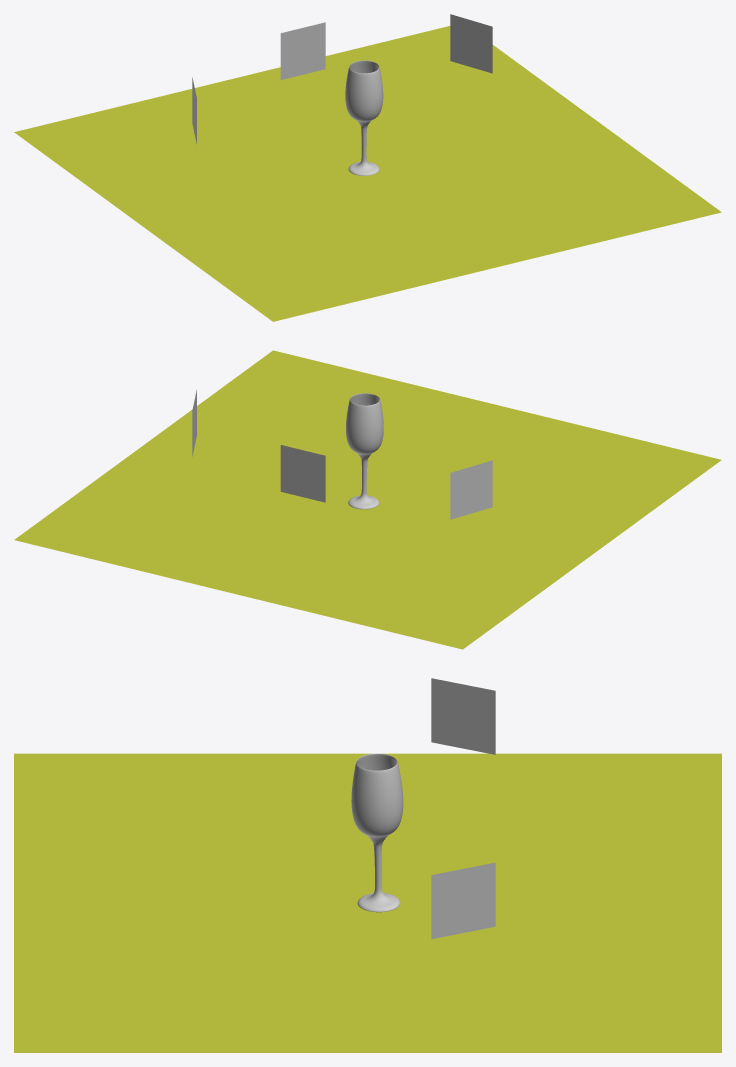
The model's file is wineglassfull-3-lights.obj.
3 renders of one model, top to bottom at view 1: azimuth 30°, elevation 25°; view 2: azimuth 150°, elevation 25°; view 3: azimuth 270°, elevation 25°, orthographic. The views are drawn at different scales.
Parts seen in each view (by area): view 1: Plane, Curve.001_Mesh.005, Light3, Light1; view 2: Plane, Curve.001_Mesh.005, Light3, Light2; view 3: Plane, Curve.001_Mesh.005, Light2, Light1.
Part boxes in pixels (left/top/right/bottom): Plane: left=14, top=26, right=721, bottom=321; Curve.001_Mesh.005: left=345, top=60, right=383, bottom=175; Light3: left=280, top=22, right=325, bottom=79; Light1: left=450, top=14, right=492, bottom=73; Plane: left=14, top=350, right=721, bottom=649; Curve.001_Mesh.005: left=346, top=393, right=383, bottom=509; Light3: left=280, top=445, right=325, bottom=502; Light2: left=450, top=460, right=492, bottom=519; Plane: left=14, top=753, right=721, bottom=1052; Curve.001_Mesh.005: left=351, top=753, right=403, bottom=912; Light2: left=431, top=678, right=495, bottom=754; Light1: left=431, top=862, right=495, bottom=939.
Bounding box in the file's own units: 20 × 4.42 × 20.
